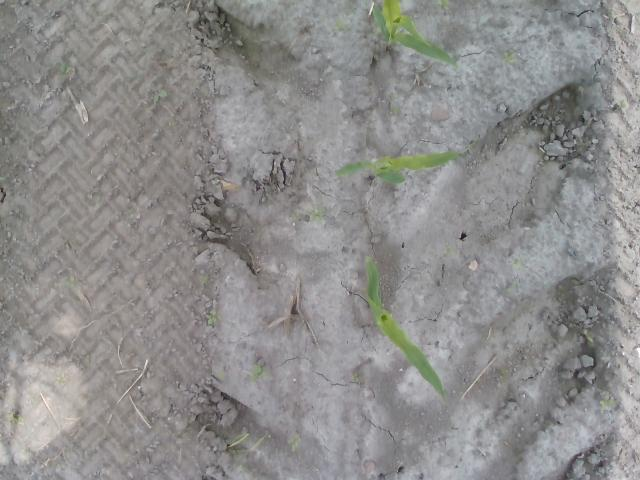Maize: (362, 253, 452, 403), (372, 0, 457, 69), (336, 150, 462, 186)
Weeds: (289, 207, 325, 227), (249, 361, 272, 384), (206, 308, 223, 329), (592, 83, 602, 114), (57, 64, 75, 81), (151, 89, 169, 105), (502, 51, 522, 65), (501, 280, 518, 296), (288, 432, 302, 451), (599, 398, 617, 412), (510, 255, 524, 272), (431, 0, 448, 14), (334, 16, 348, 31), (127, 70, 145, 81), (8, 414, 24, 426), (64, 272, 76, 288), (582, 328, 593, 344), (536, 223, 546, 240), (240, 432, 256, 442), (444, 245, 458, 256), (54, 375, 66, 387), (216, 370, 226, 384), (592, 466, 606, 476), (239, 54, 251, 65), (389, 103, 401, 113), (198, 276, 212, 284), (18, 448, 27, 460), (498, 368, 510, 377), (351, 372, 361, 382), (0, 175, 10, 185), (542, 420, 554, 428), (240, 462, 249, 472), (56, 464, 66, 472), (464, 142, 472, 152), (617, 100, 625, 108)
